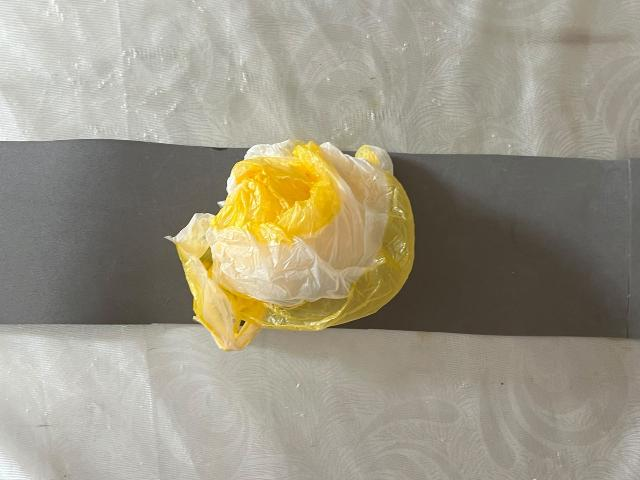LDPE: (151, 112, 431, 367)
